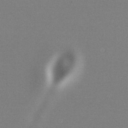normal: (24, 85, 63, 128)
